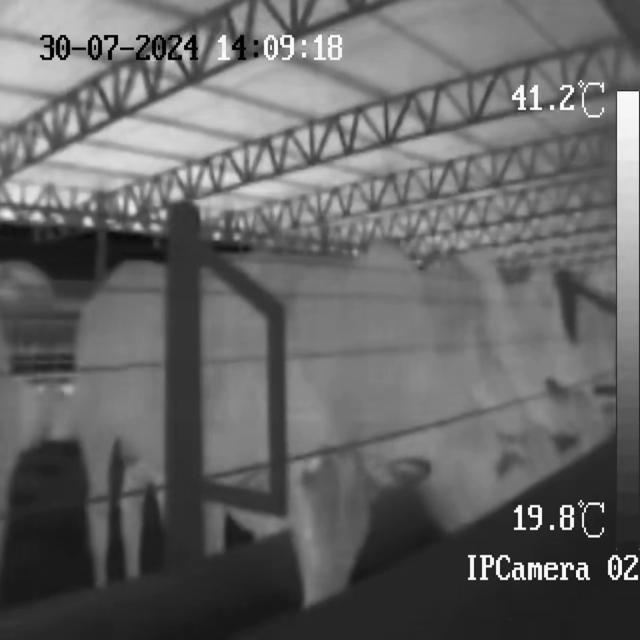eye: (301, 508, 320, 549)
head: (287, 453, 371, 590)
